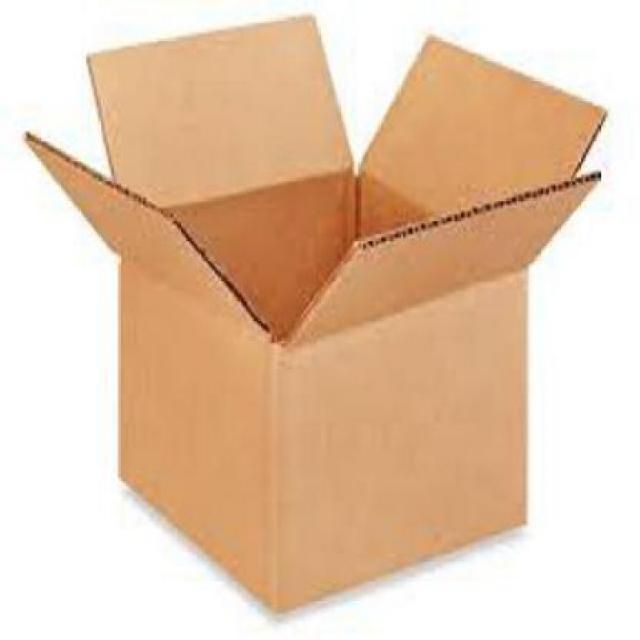box: (29, 16, 607, 617)
